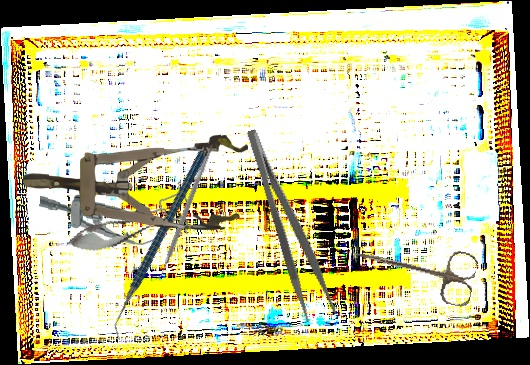Chopper: (63, 147, 260, 342)
Dressing Forceps: (241, 122, 339, 324)
Iris Scissors: (347, 229, 480, 309)
Micro Scissor: (62, 202, 180, 260)
Spatula Surgical: (152, 147, 212, 284)
Speculum: (22, 131, 248, 231), (37, 184, 192, 248)
